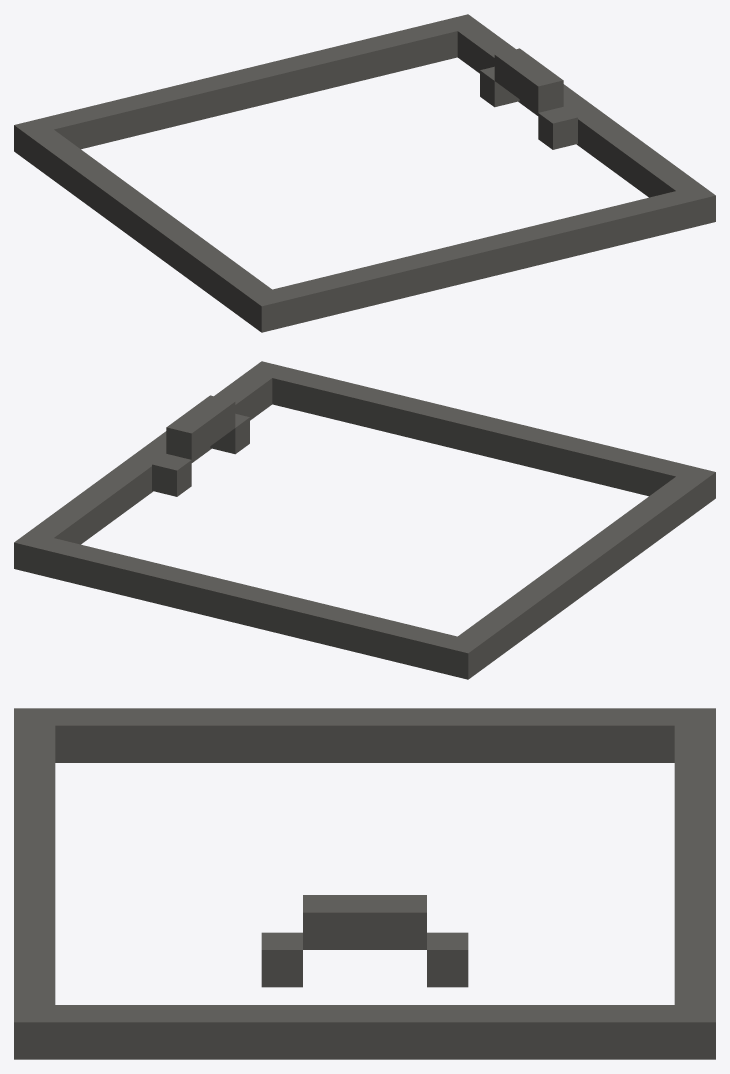
File: church-62-ch_trapdoormetal.obj
The picture shows the model from 3 angles, top to bottom: view 1: azimuth 30°, elevation 25°; view 2: azimuth 150°, elevation 25°; view 3: azimuth 270°, elevation 25°; orthographic projection. The views are drawn at different scales.
Visible parts, largest first — view 1: ch_trapdoormetal; view 2: ch_trapdoormetal; view 3: ch_trapdoormetal.
Part boxes in pixels (box(x1,y1,x2,y2)): ch_trapdoormetal: box(14, 14, 715, 332); ch_trapdoormetal: box(14, 361, 715, 679); ch_trapdoormetal: box(14, 708, 715, 1059).
Bounding box in the file's own units: 1.8 × 0.3 × 1.7.
1 material, 1 textured.
